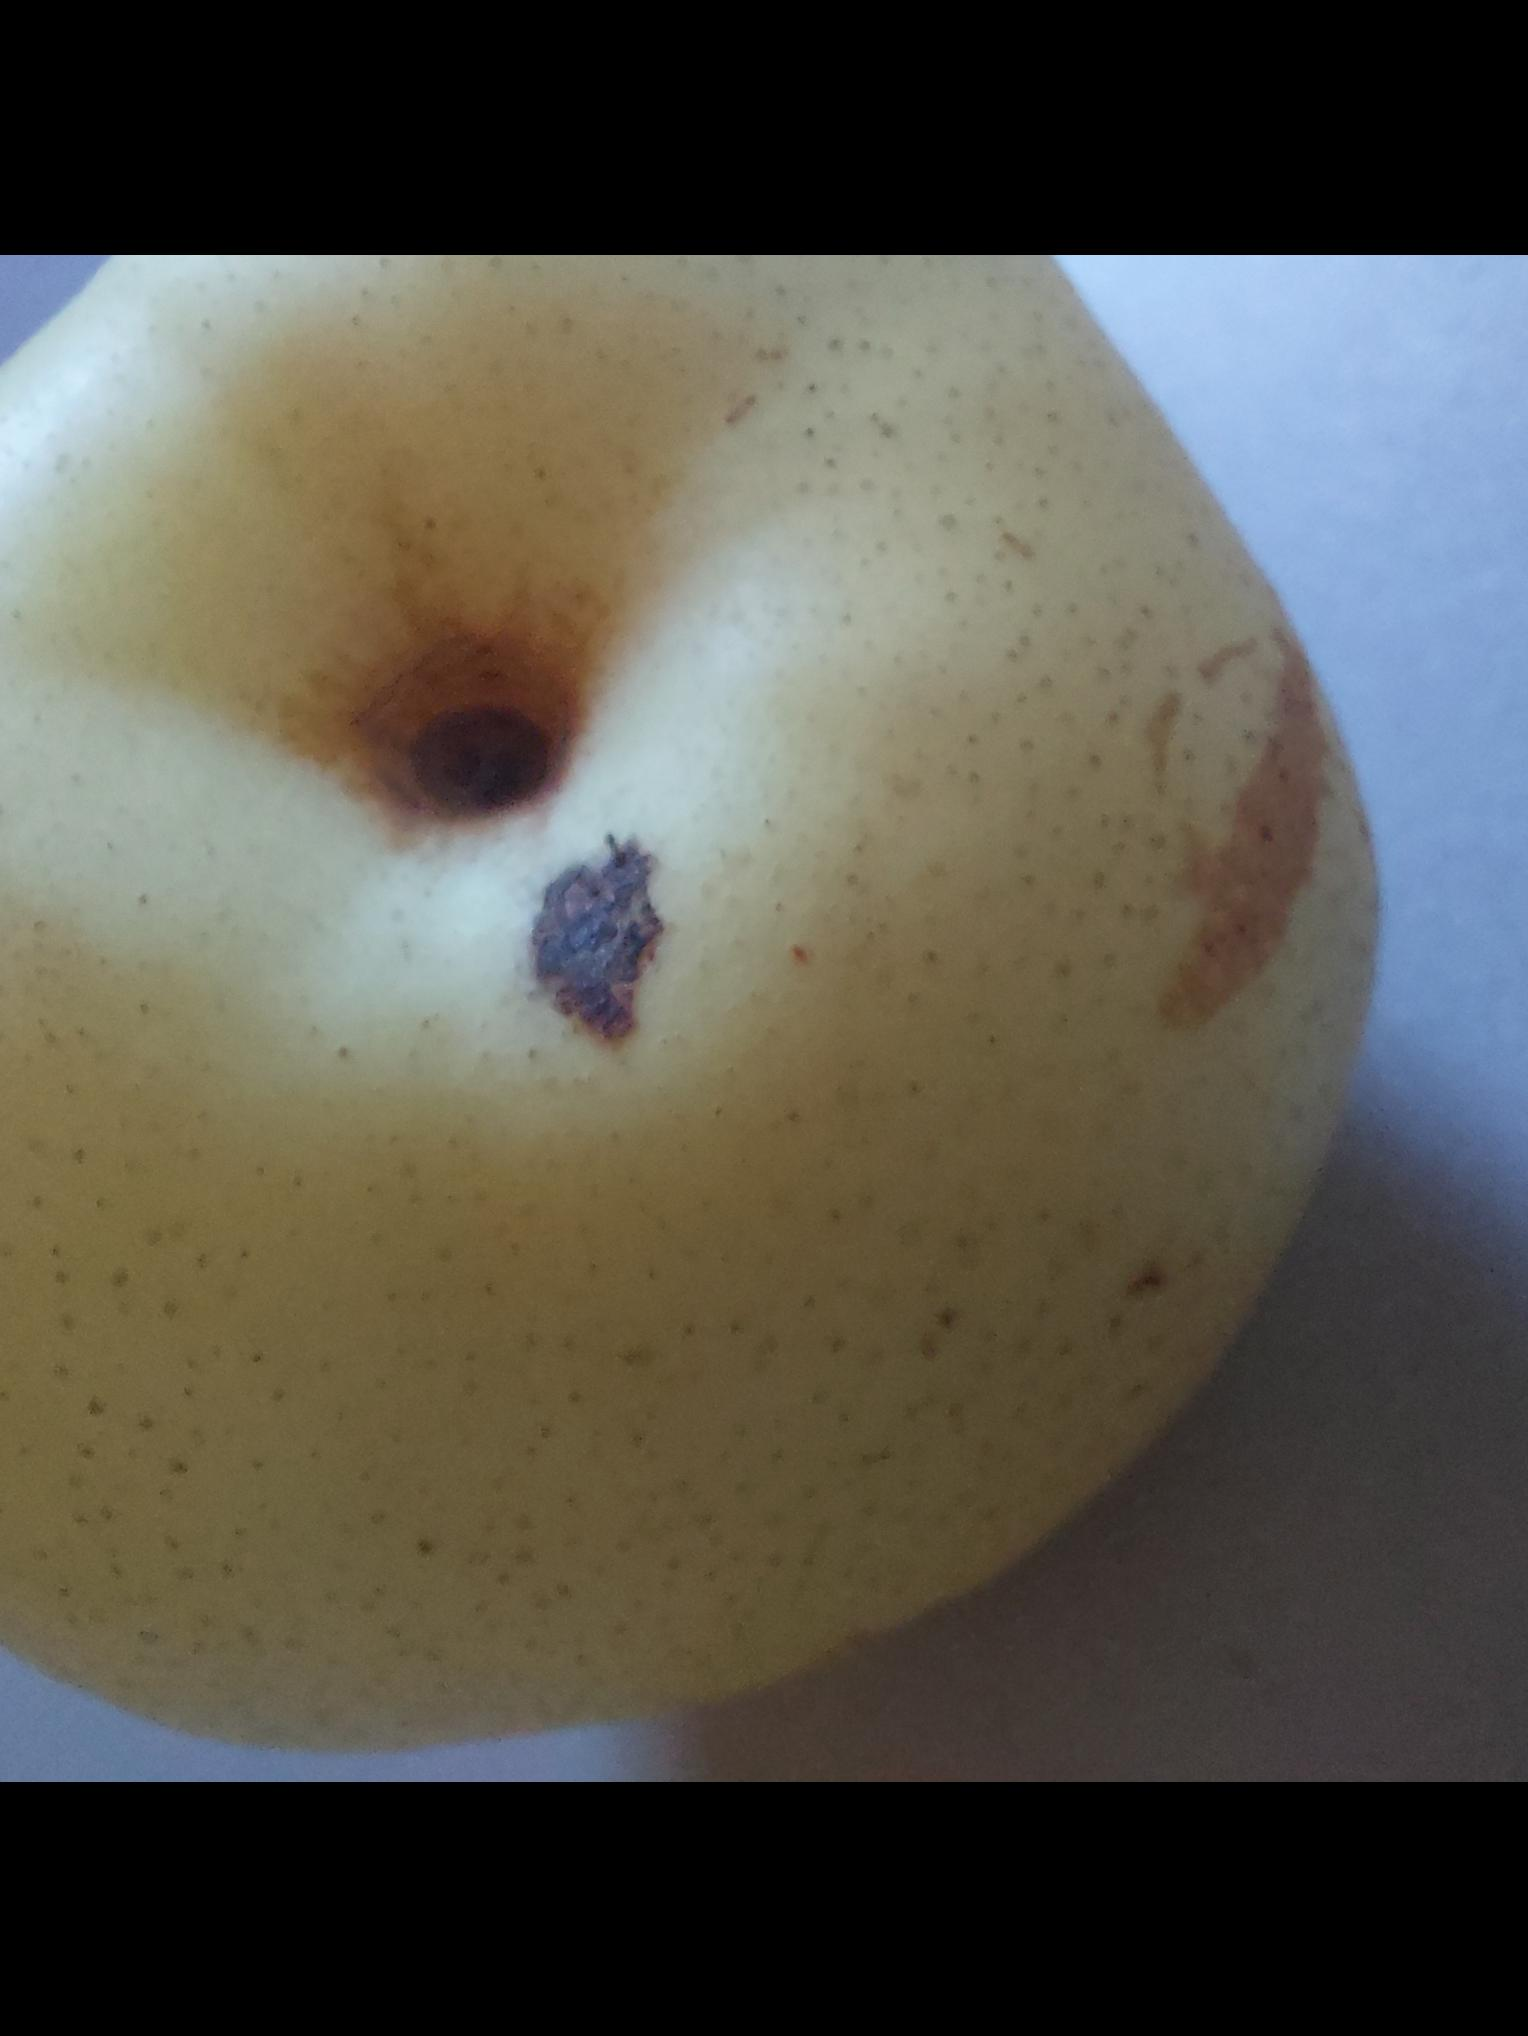Good Pear: (0, 253, 1449, 1783)
